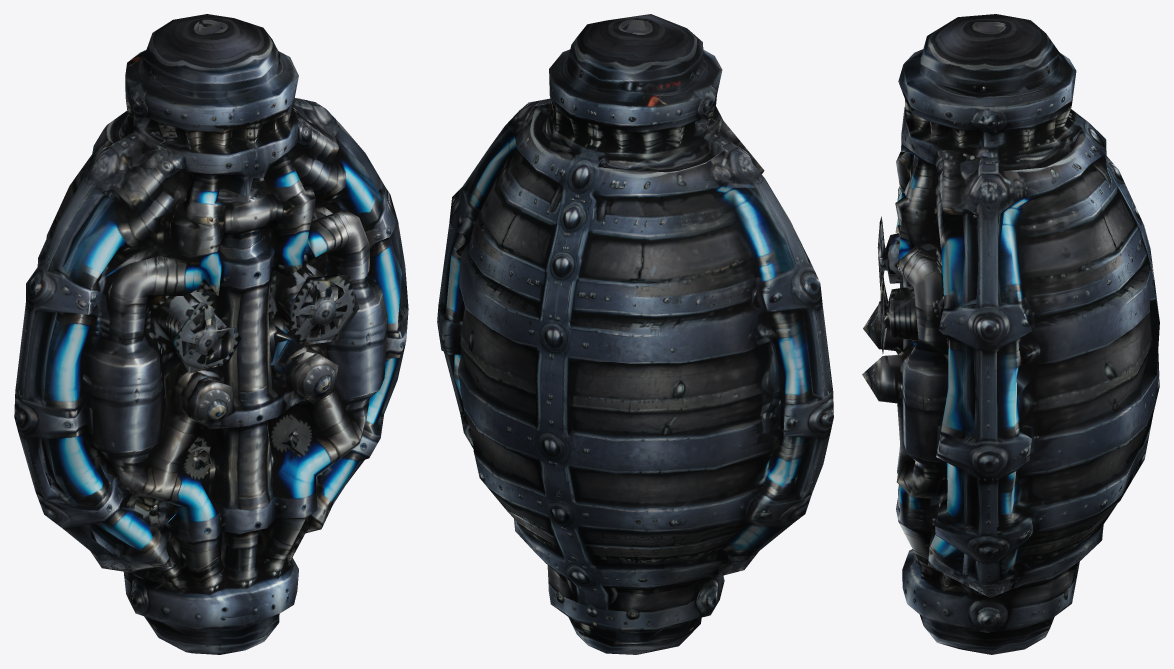
Rendered from Body.fbx.
3 views of the same model, side by side, from view 1: azimuth 30°, elevation 25°; view 2: azimuth 150°, elevation 25°; view 3: azimuth 270°, elevation 25° (orthographic).
Visible parts, largest first — view 1: texture_mapping; view 2: texture_mapping; view 3: texture_mapping.
Boxes of the visible parts, bbox=[...] form: texture_mapping: bbox=[14, 14, 408, 654]; texture_mapping: bbox=[437, 14, 833, 654]; texture_mapping: bbox=[862, 14, 1159, 654].
Bounding box in the file's own units: 0.6437 × 0.4216 × 0.9706.
Materials: 1 (1 with a texture image).
